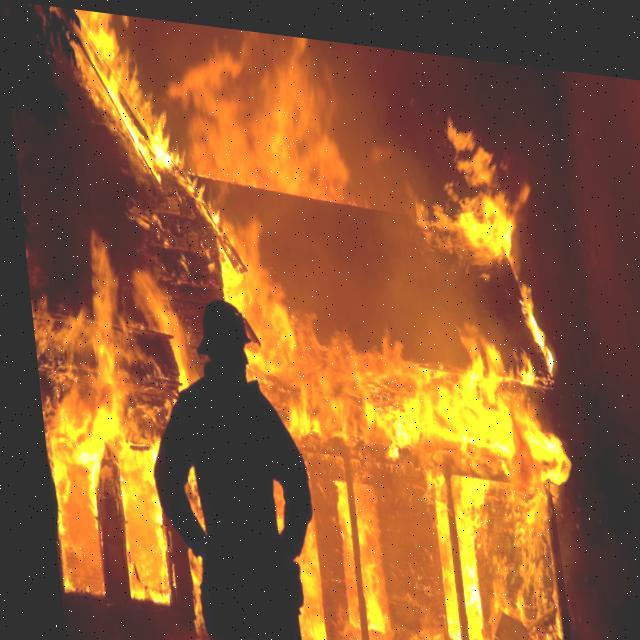Fire: (4, 3, 566, 639)
